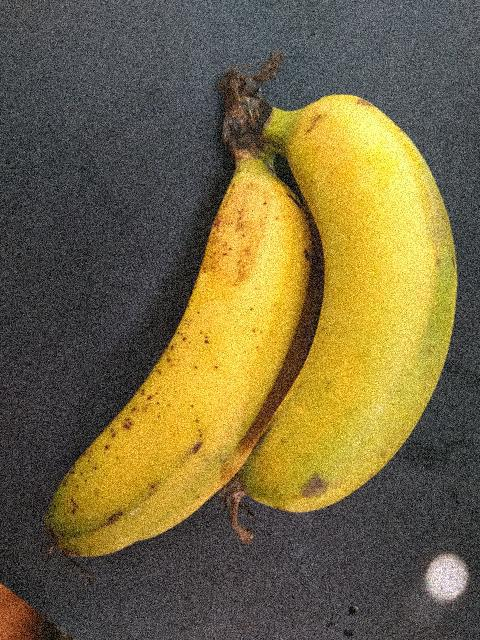freshripe: (282, 91, 465, 533)
ripe: (31, 166, 308, 576)
